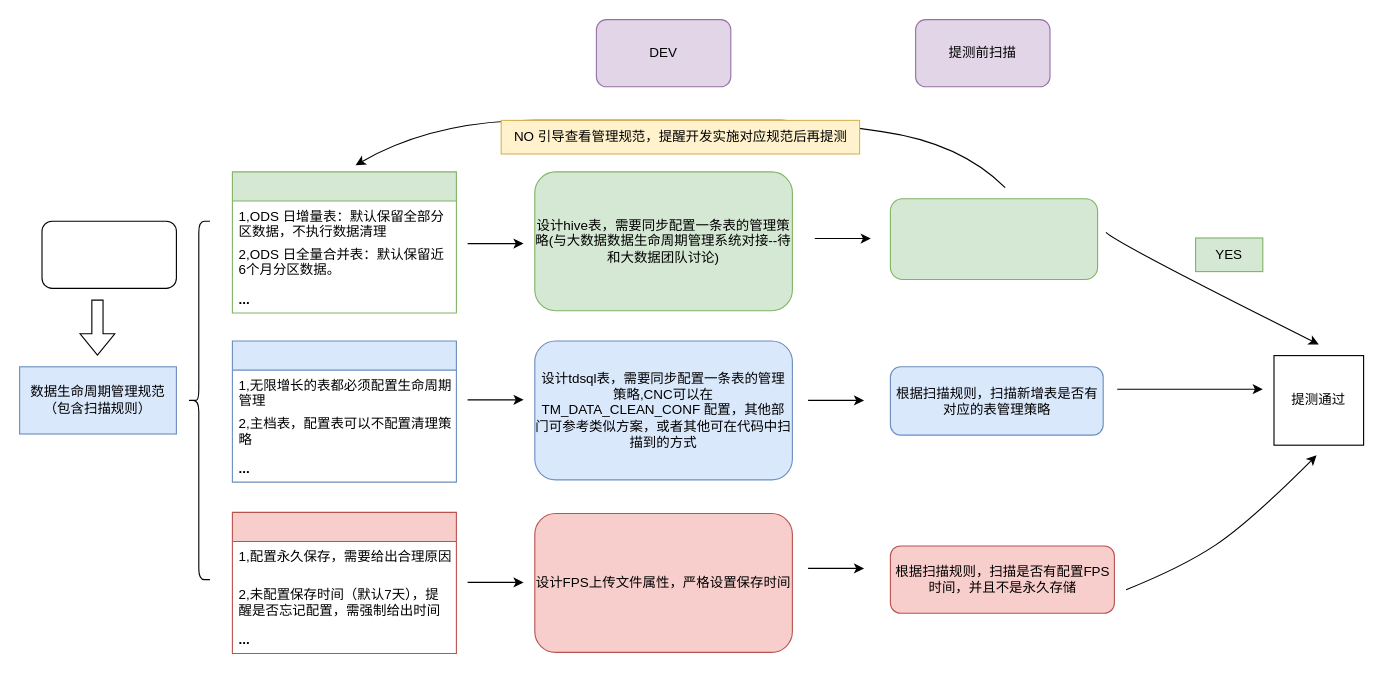
Image size: 1383x676. Some labels were removed from this diagram. Each missing label, with the box of its shape:
AA+运维制定规范: (41, 220, 176, 288)
FPS: (231, 511, 456, 654)
HIVE: (231, 171, 456, 313)
TDSQL: (231, 340, 456, 482)
扫描新增表是否有对应的大数据管理系统的管理策略: (889, 198, 1098, 279)
